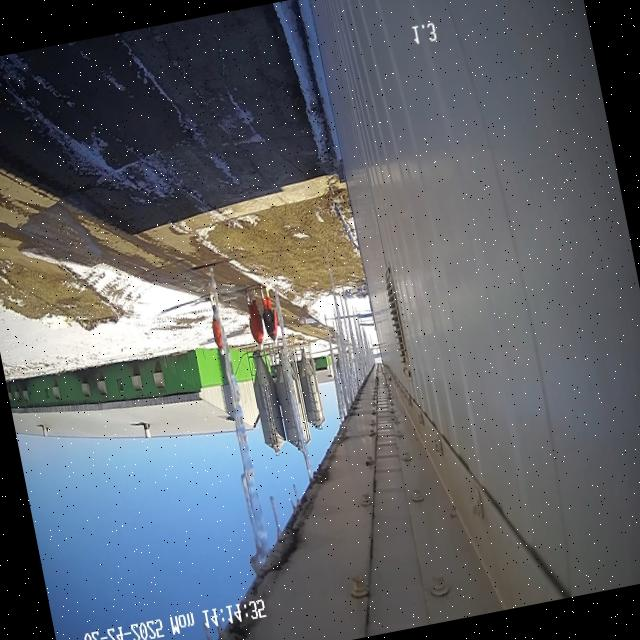Red uniform: (245, 290, 264, 351), (260, 286, 278, 342), (209, 293, 225, 356)
